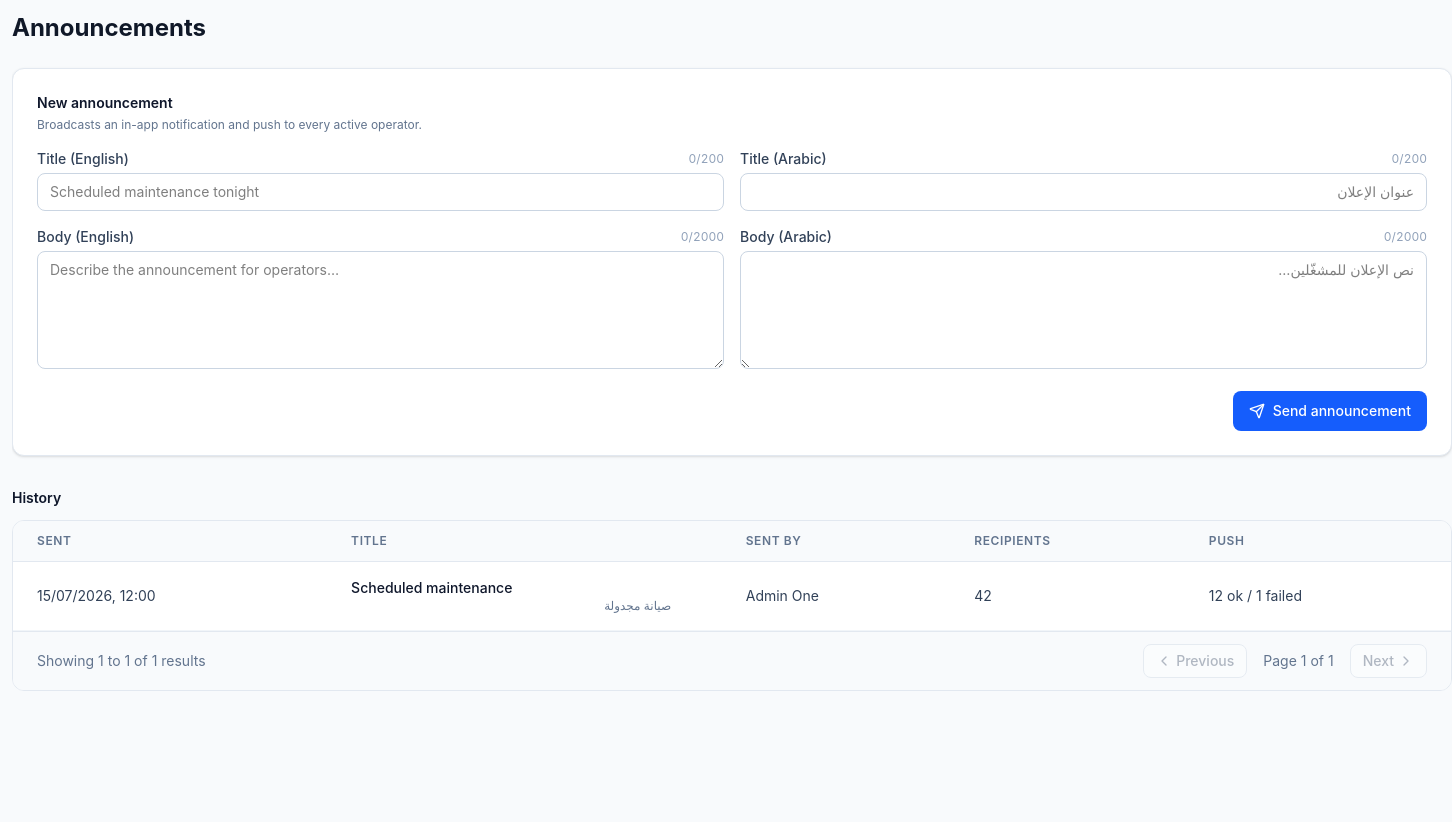
it: AnnouncementsPage › blocks submit when the Arabic title is blank (client validation)
Expected: the text "Scheduled maintenance" is shown, 351,579 -> 512,596
Fill everything except Title (Arabic).
Type "Hello" into the field labelled "Title (English)". click: (380, 192)
box: 37,173 -> 724,211
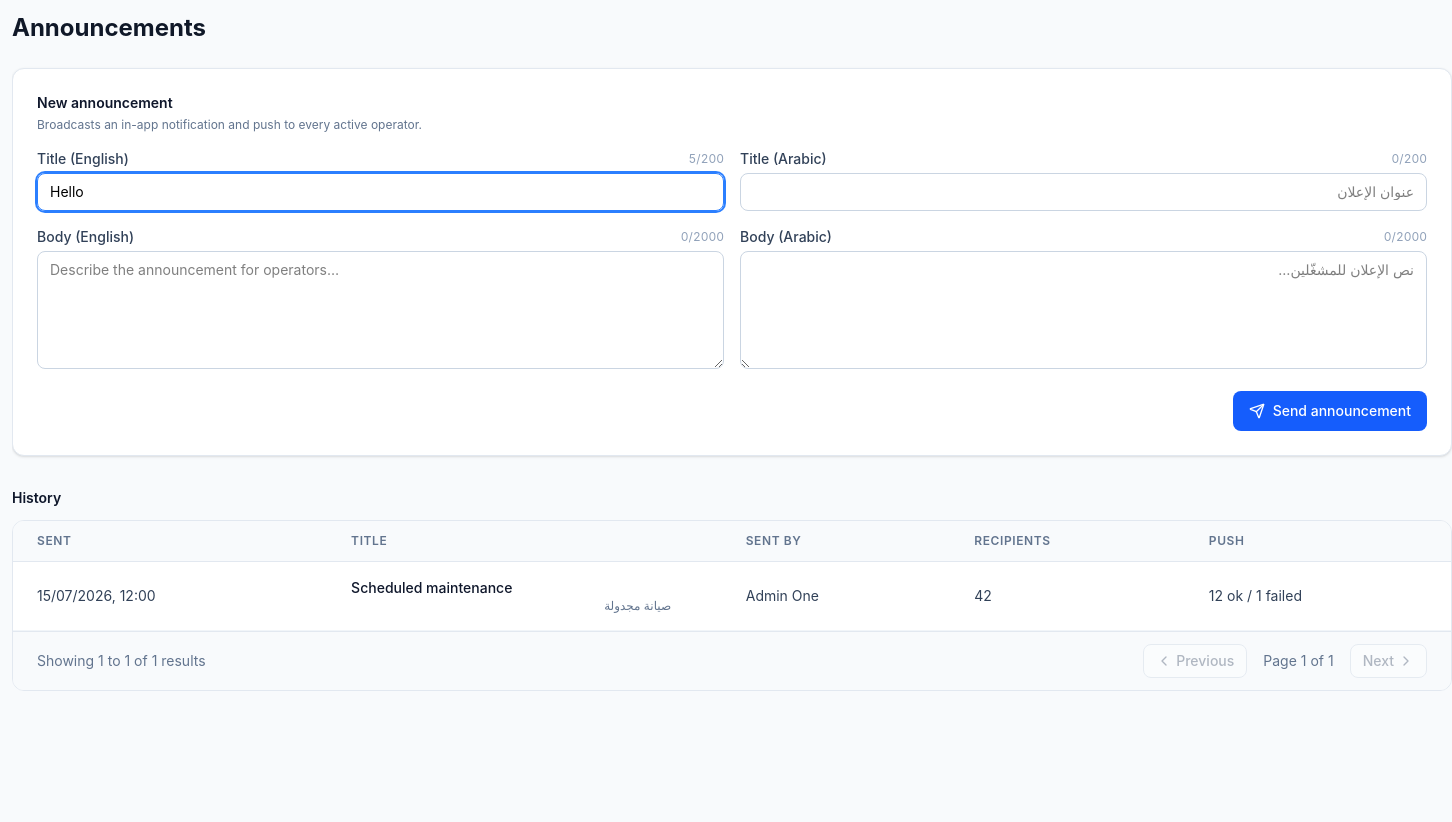
Type "Body text" into the text box labelled "Body (English)". click: (380, 310)
box: 37,251 -> 724,369
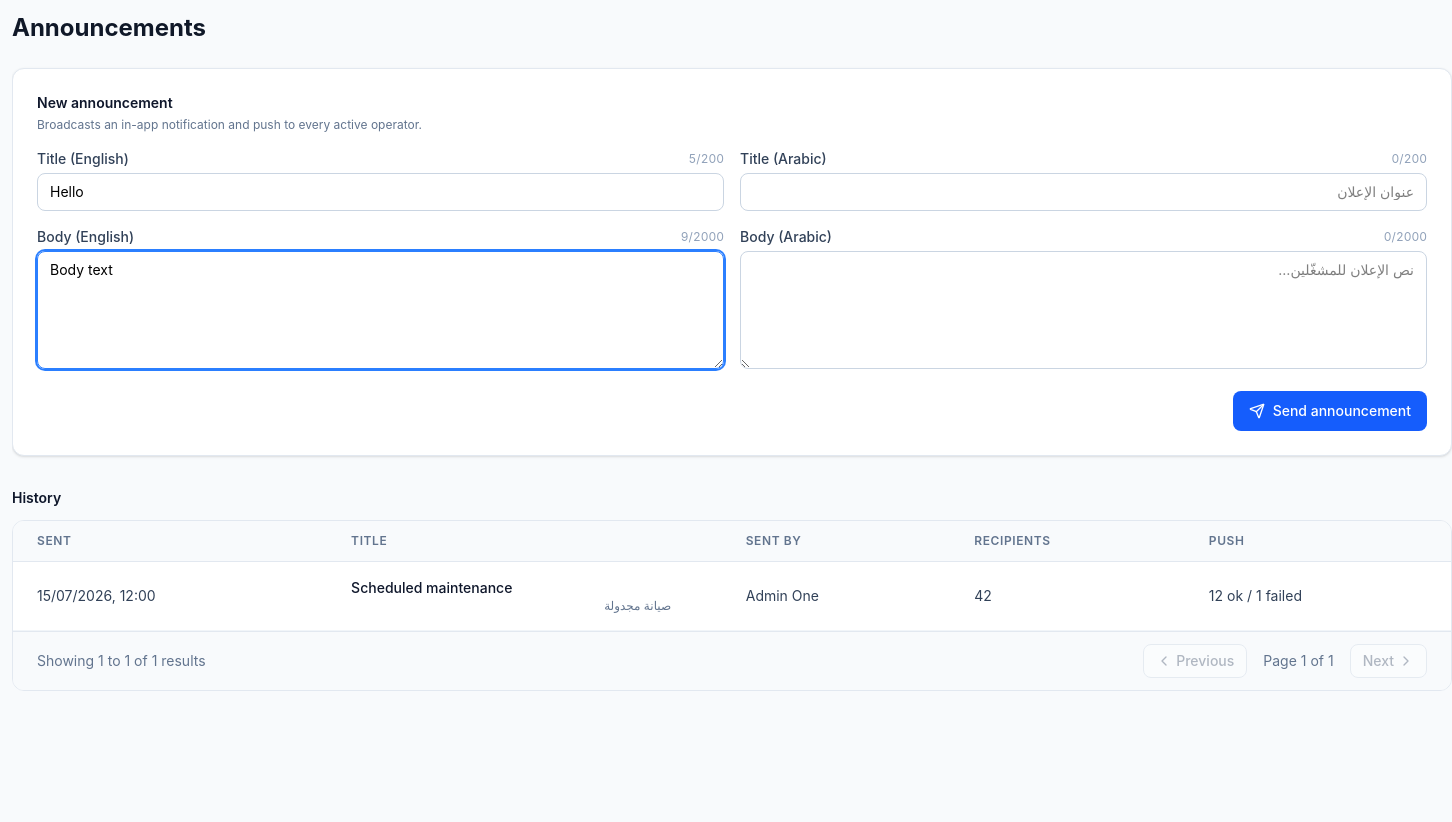
Type "نص الإعلان" into the text box labelled "Body (Arabic)". click: (1084, 310)
box: 740,251 -> 1427,369
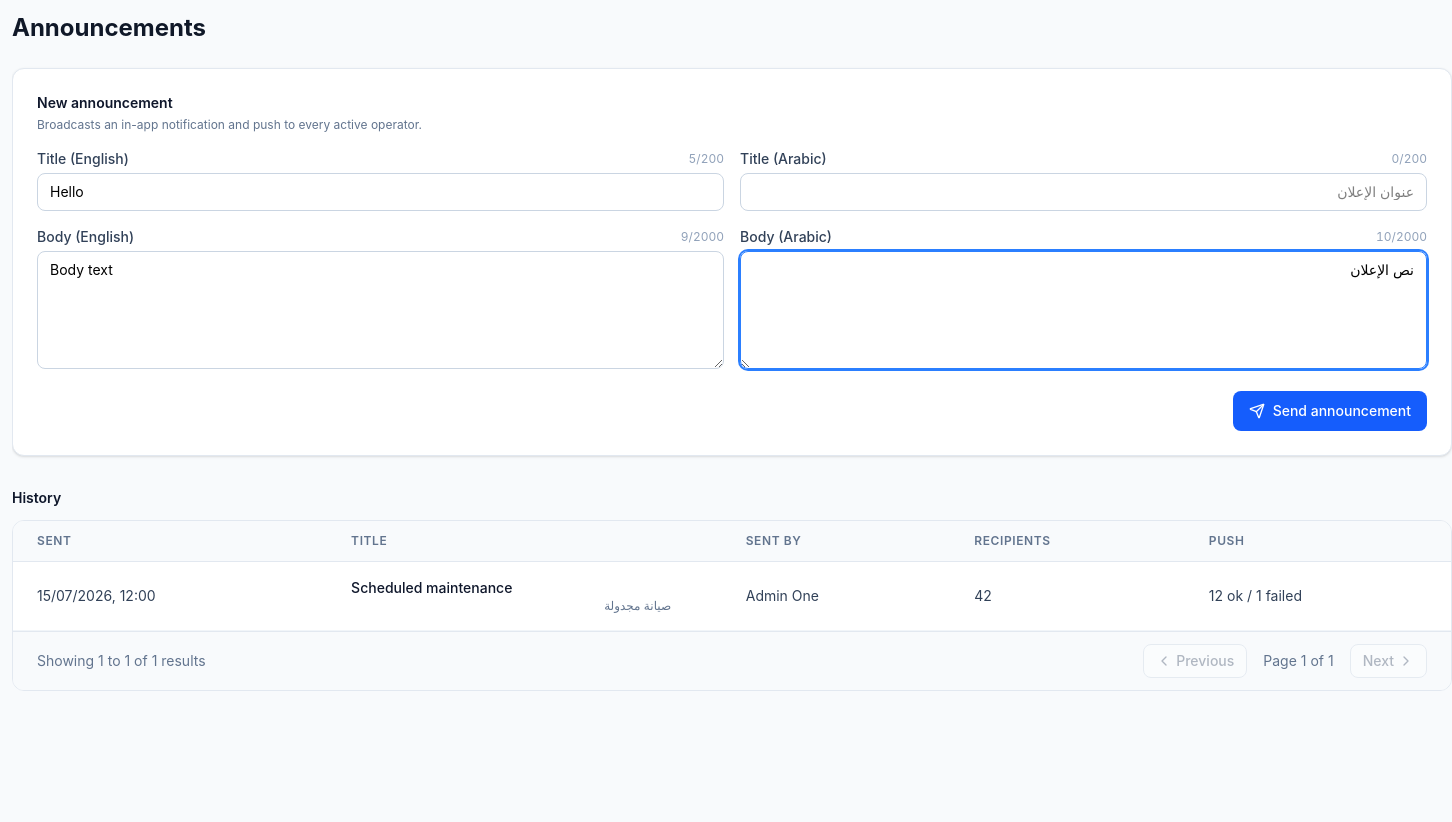
Click the button "Send announcement". click: (1330, 411)
box: 1233,391 -> 1427,431
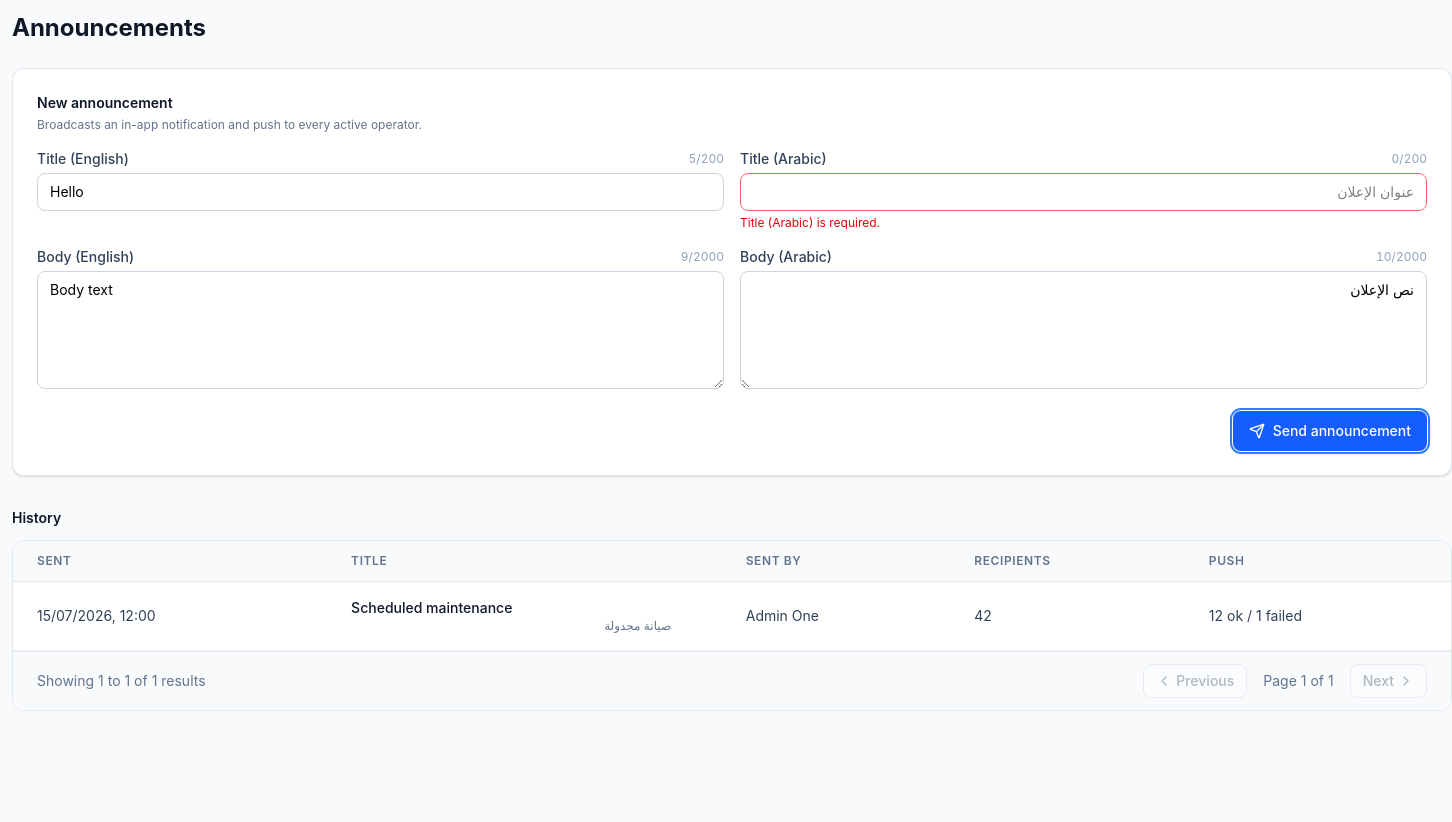
Result: the text "Title (Arabic) is required." is shown at 740,215 -> 880,230
